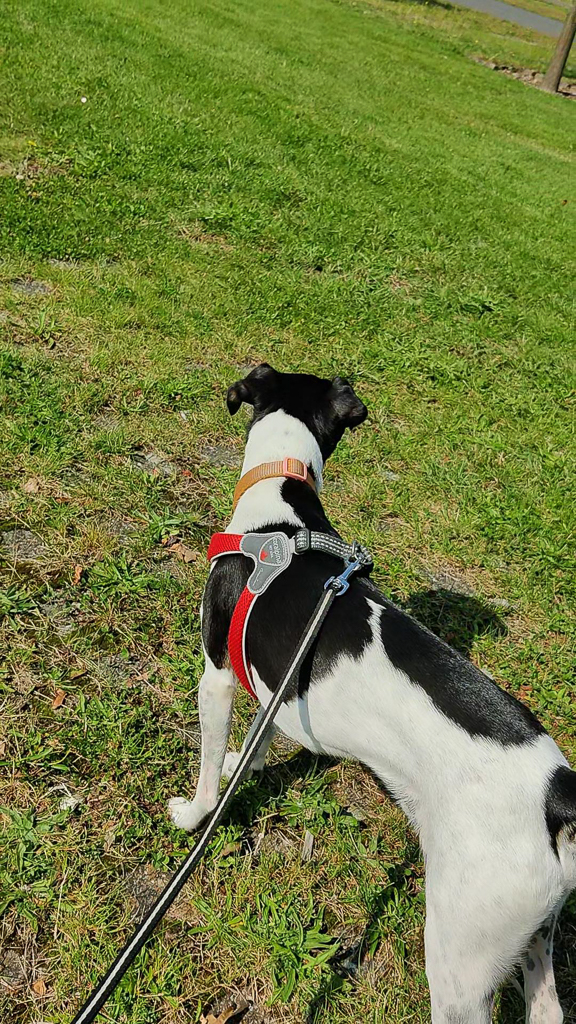Dog: (154, 354, 576, 1024)
